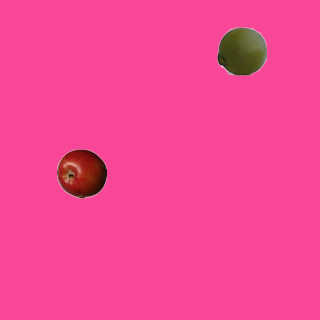Apple Braeburn: (56, 148, 106, 198)
Grape White 4: (216, 25, 266, 75)
